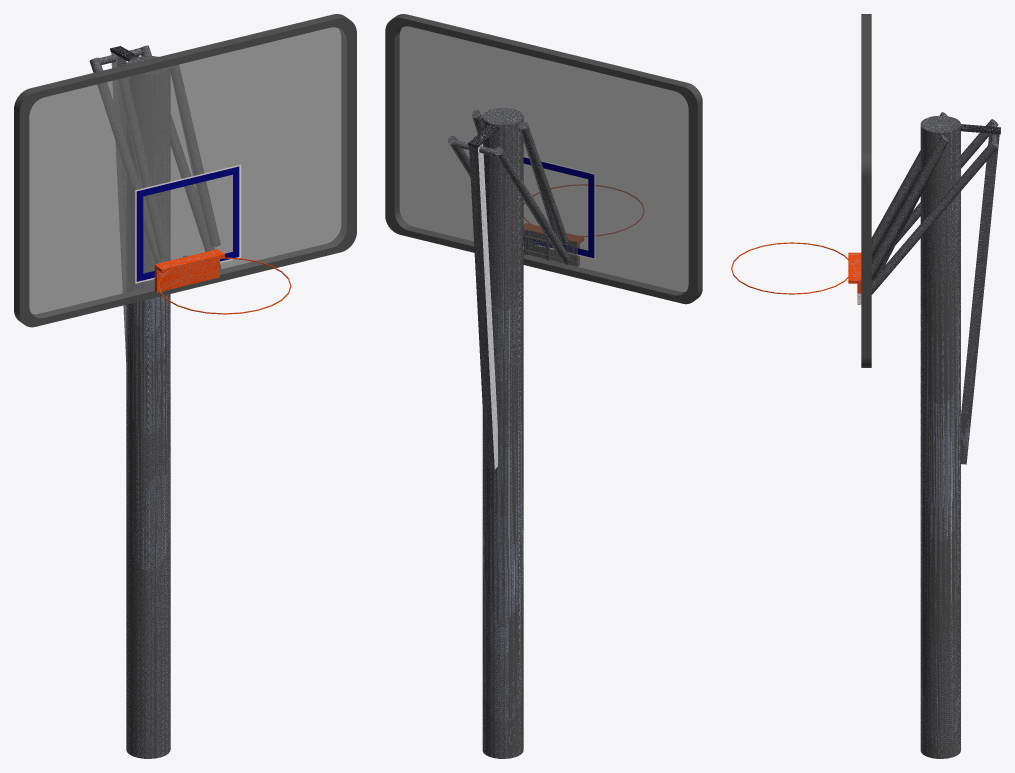
3 views of the same model, side by side, from view 1: azimuth 30°, elevation 25°; view 2: azimuth 150°, elevation 25°; view 3: azimuth 270°, elevation 25° (orthographic). The views are drawn at different scales.
Parts seen in each view (by area): view 1: backboard (×6), SketchUp (×7); view 2: backboard (×5), SketchUp (×6); view 3: SketchUp (×7), backboard.
Part boxes in pixels (<box>): backboard (×6): <box>14,14,356,327</box>; SketchUp (×7): <box>89,45,224,758</box>; backboard (×5): <box>385,14,702,304</box>; SketchUp (×6): <box>448,107,577,758</box>; SketchUp (×7): <box>848,112,999,758</box>; backboard: <box>861,14,871,367</box>.
Size of the model in its own units: 52.62 by 39.84 by 108.
